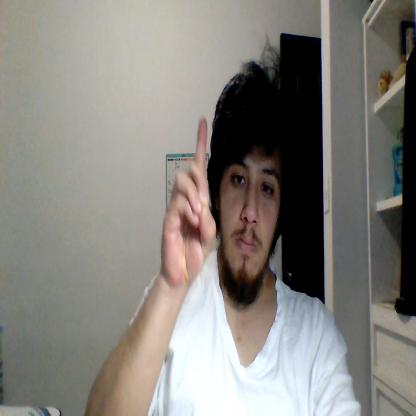D: (162, 118, 216, 289)
